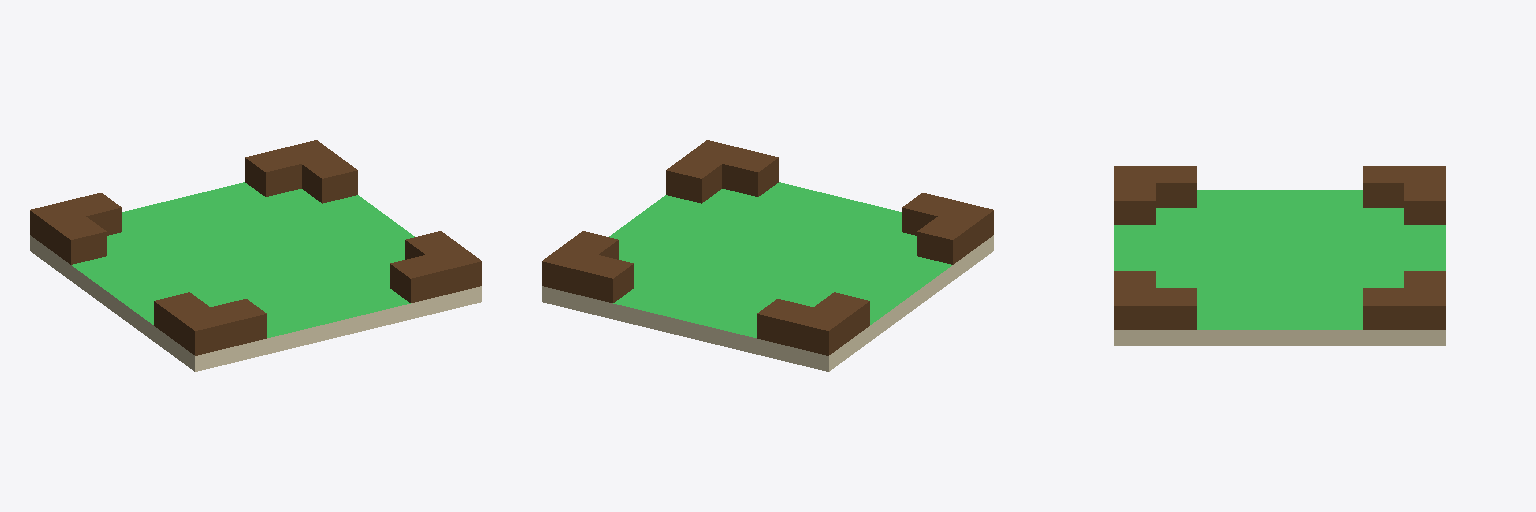
The model's file is field.obj.
3 renders of one model, left to right at view 1: azimuth 30°, elevation 25°; view 2: azimuth 150°, elevation 25°; view 3: azimuth 270°, elevation 25°, orthographic.
Parts seen in each view (by area): view 1: Cube; view 2: Cube; view 3: Cube.
Part boxes in pixels (x1,y1,x2,y2): Cube: (30, 140, 481, 371); Cube: (542, 140, 993, 371); Cube: (1114, 166, 1445, 345).
Bounding box in the file's own units: 29.67 × 4.03 × 29.67.